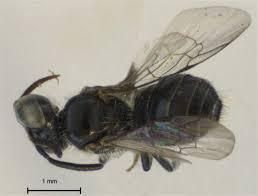Braunsapis: (12, 2, 244, 180)
